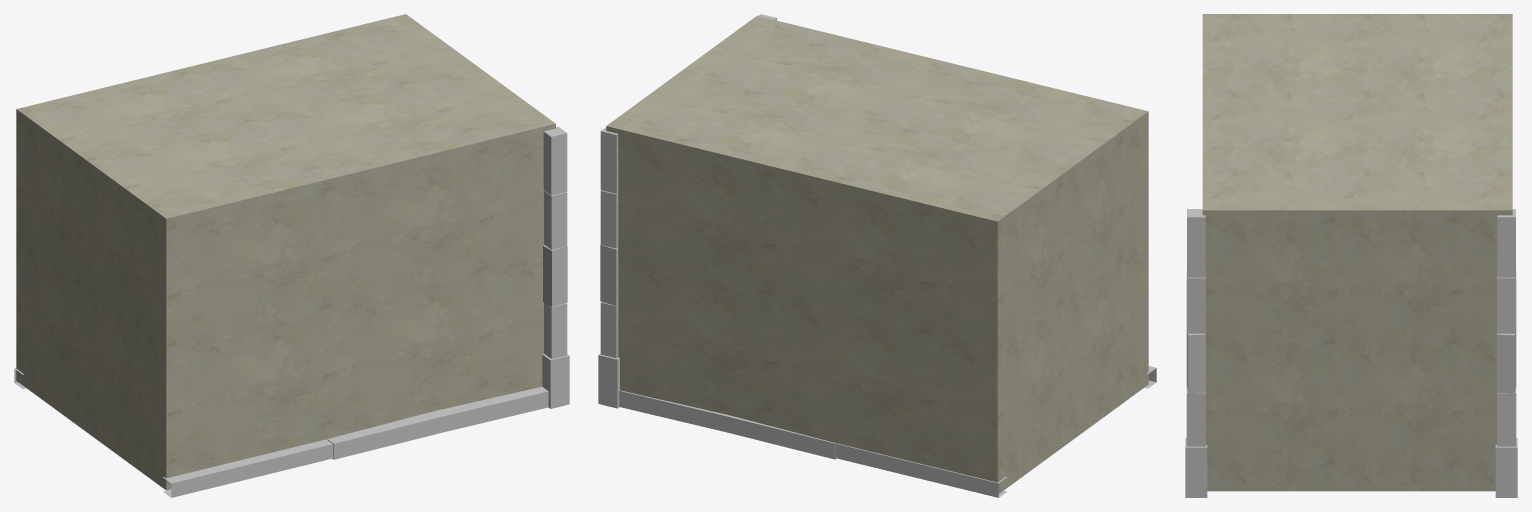
File: A_Stairs_Underpart_A.fbx
3 renders of one model, left to right at view 1: azimuth 30°, elevation 25°; view 2: azimuth 150°, elevation 25°; view 3: azimuth 270°, elevation 25°, orthographic. The views are drawn at different scales.
Parts seen in each view (by area): view 1: A_Stairs_Underpart_A, A_Stairs_Underpart_A_KitPart; view 2: A_Stairs_Underpart_A, A_Stairs_Underpart_A_KitPart; view 3: A_Stairs_Underpart_A, A_Stairs_Underpart_A_KitPart.
Part boxes in pixels (x1=…): A_Stairs_Underpart_A: x1=16, y1=14, x2=555, y2=490; A_Stairs_Underpart_A_KitPart: x1=14, y1=126, x2=569, y2=497; A_Stairs_Underpart_A: x1=606, y1=16, x2=1148, y2=493; A_Stairs_Underpart_A_KitPart: x1=598, y1=14, x2=1156, y2=497; A_Stairs_Underpart_A: x1=1202, y1=14, x2=1512, y2=491; A_Stairs_Underpart_A_KitPart: x1=1185, y1=209, x2=1517, y2=497.
Size of the model in its own units: 611 by 406 by 429.
